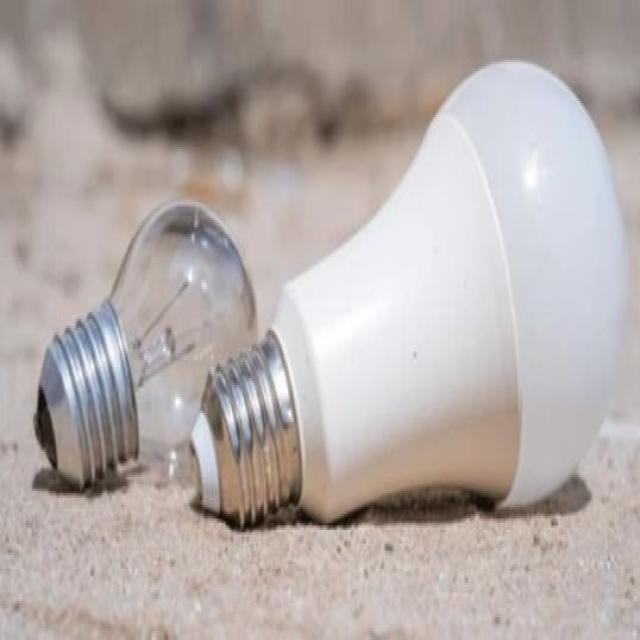electronic: (188, 55, 628, 528), (32, 195, 258, 493)
